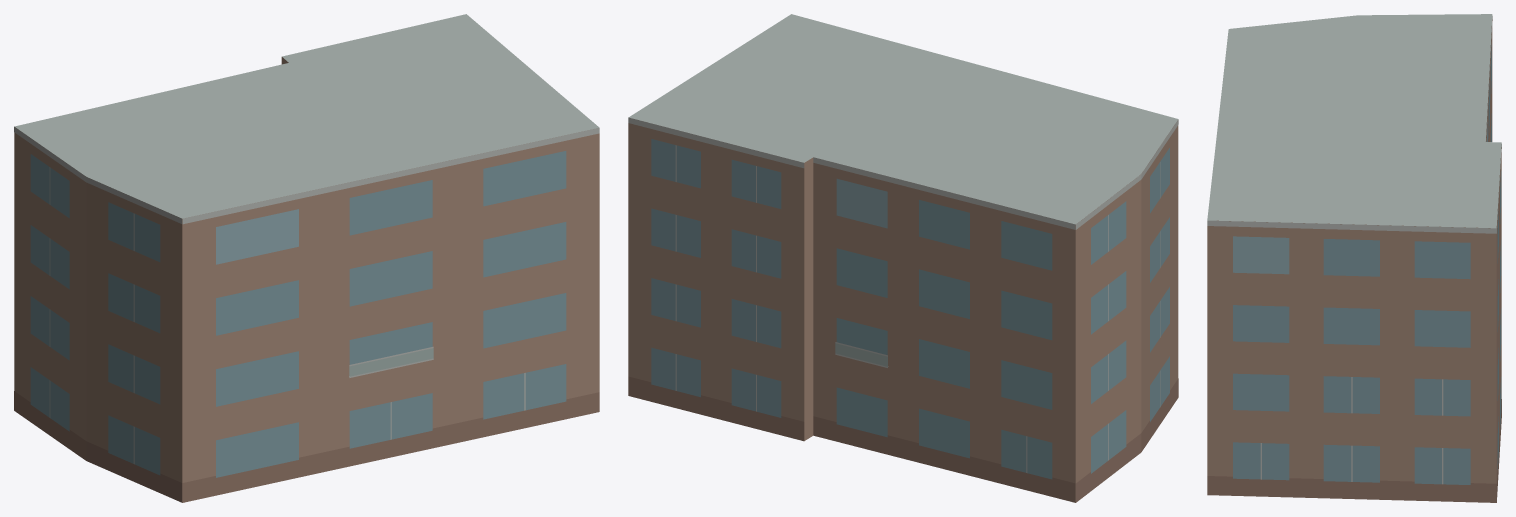
The model's file is survey-upis-32945128.glb.
3 renders of one model, left to right at view 1: azimuth 30°, elevation 25°; view 2: azimuth 150°, elevation 25°; view 3: azimuth 270°, elevation 25°, orthographic. The views are drawn at different scales.
Parts seen in each view (by area): view 1: survey-upis-32945128.tmp; view 2: survey-upis-32945128.tmp; view 3: survey-upis-32945128.tmp.
Part boxes in pixels (bbox=[...]): survey-upis-32945128.tmp: bbox=[14, 14, 599, 502]; survey-upis-32945128.tmp: bbox=[628, 14, 1178, 502]; survey-upis-32945128.tmp: bbox=[1207, 14, 1501, 502].
Size of the model in its own units: 20.43 by 12.2 by 11.87.
